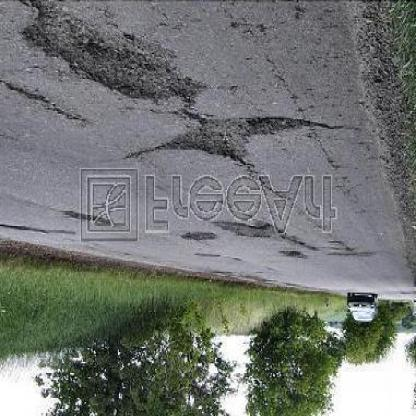pothole: (20, 2, 206, 108), (157, 119, 309, 165), (213, 220, 282, 241), (181, 234, 217, 245)
